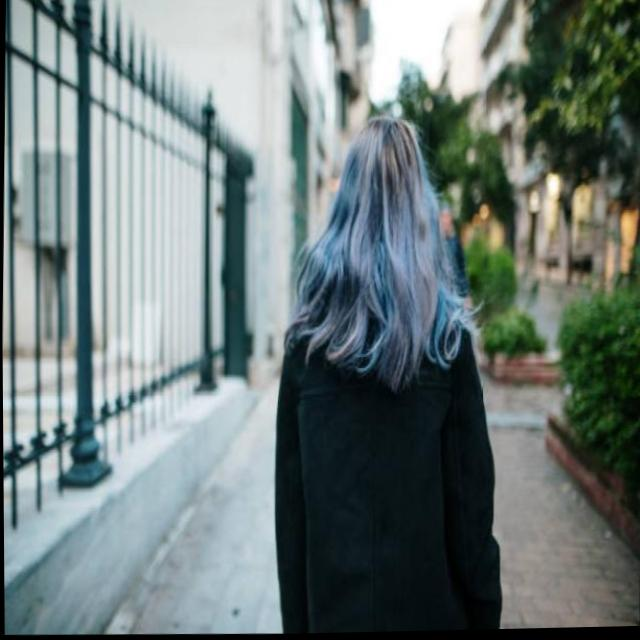no helmet: (315, 86, 454, 365)
